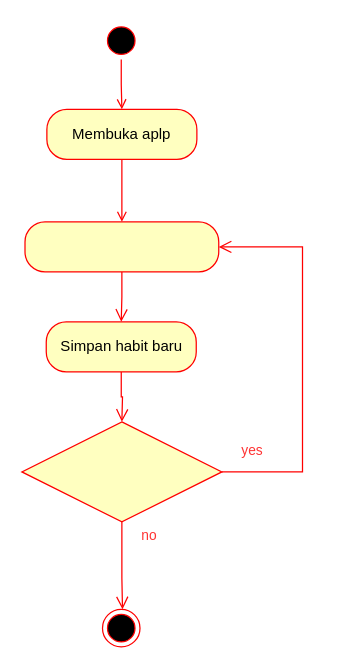
This 338x669 diagram has some shape labels left out. Here are the shapes that lost their labels. From the top down, the box of each, then its label:
(24, 221, 219, 272): Menambahkan habit baru
(21, 421, 222, 522): Ingin menambah habit baru?
